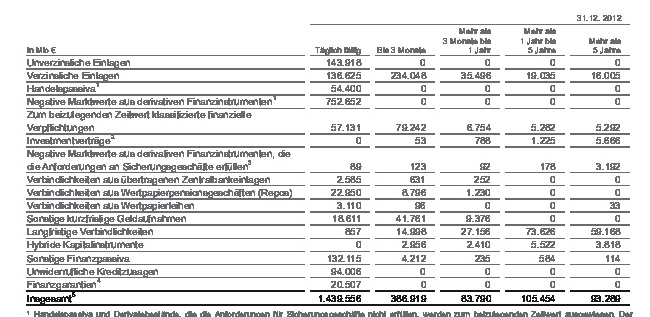table: (0, 0, 650, 317)
